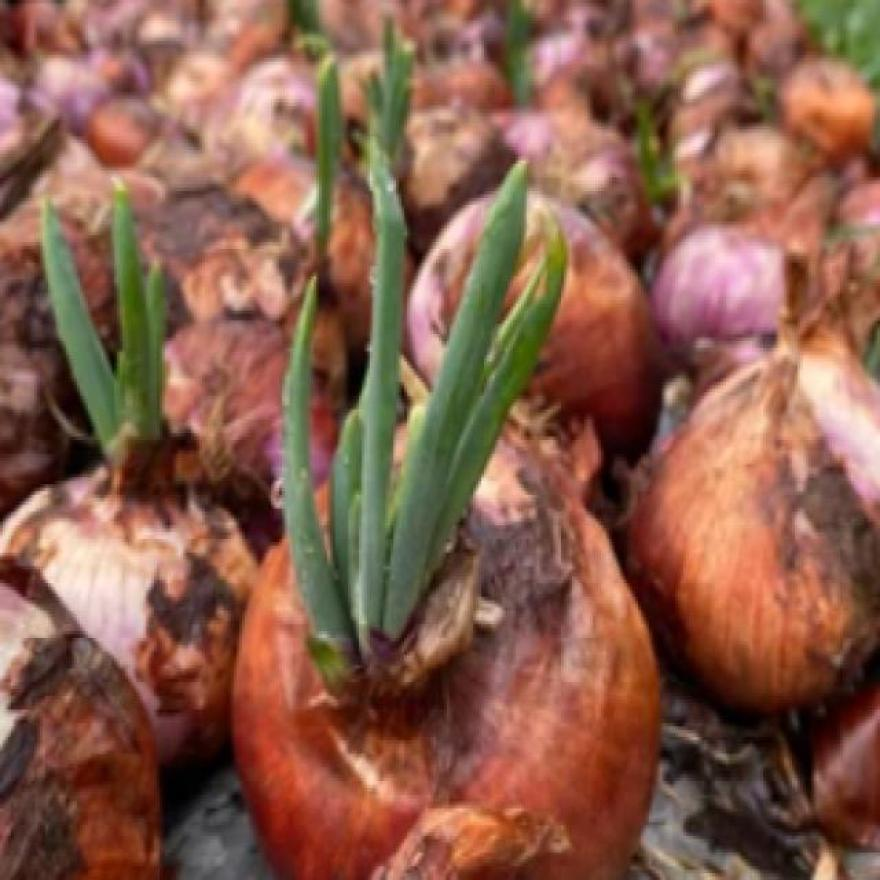Sprouted: (264, 348, 465, 686), (42, 246, 189, 484), (332, 54, 409, 178)
